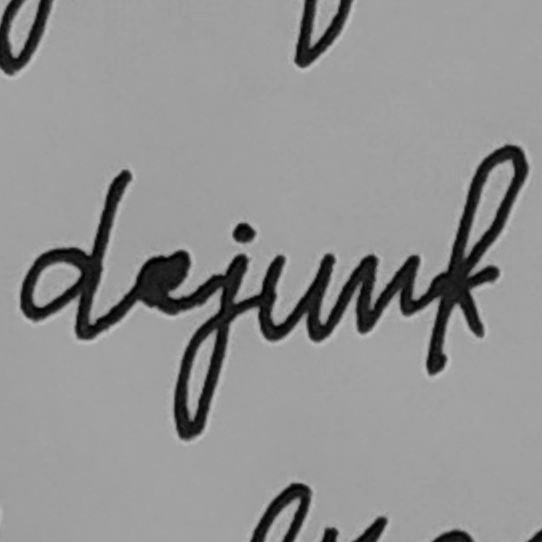d: (12, 160, 134, 345)
e: (134, 237, 206, 326)
j: (168, 217, 257, 444)
k: (424, 137, 532, 379)
n: (345, 245, 422, 338)
u: (257, 243, 340, 351)
